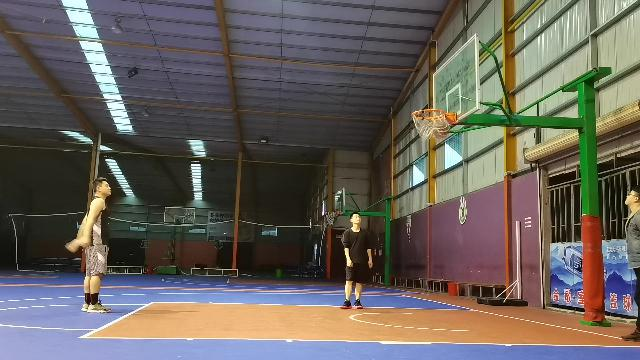basket: (411, 108, 445, 142), (324, 209, 336, 224)
goal: (432, 121, 450, 138)
